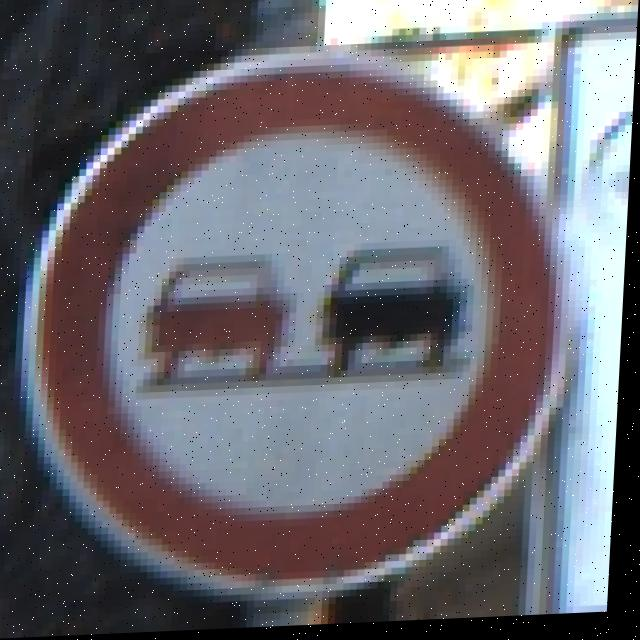no_overtaking: (59, 63, 548, 558)
